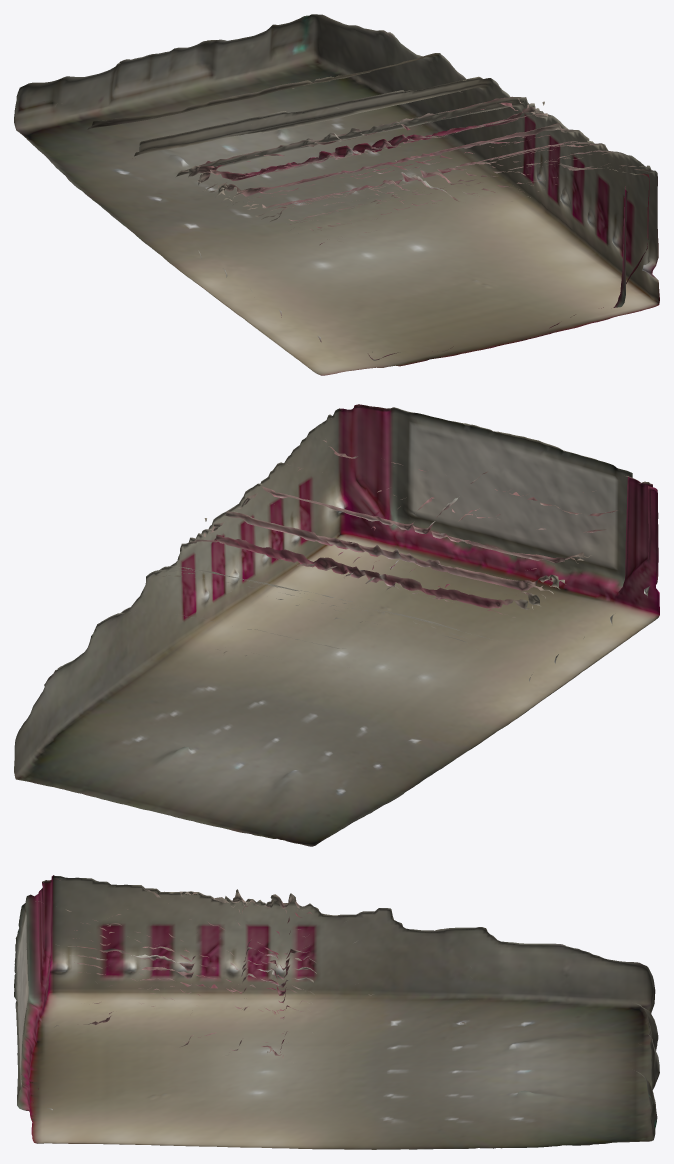
The model's file is collider.glb.
3 renders of one model, top to bottom at view 1: azimuth 30°, elevation 25°; view 2: azimuth 150°, elevation 25°; view 3: azimuth 270°, elevation 25°, orthographic. The views are drawn at different scales.
Parts seen in each view (by area): view 1: world; view 2: world; view 3: world.
Boxes of the visible parts, x1,y1,x2,y2 form: world: (14, 14, 659, 375); world: (14, 404, 659, 846); world: (14, 875, 659, 1149).
Bounding box in the file's own units: 5.45 × 2.07 × 9.58.
